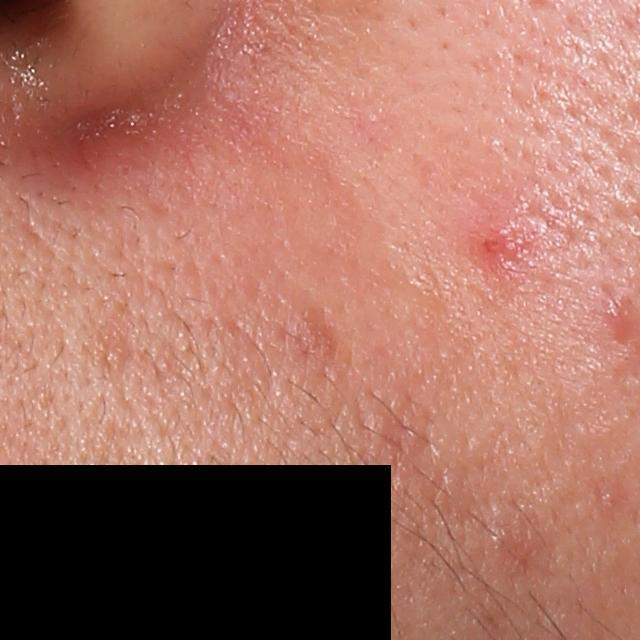papule: (478, 220, 527, 265), (597, 293, 638, 345)
